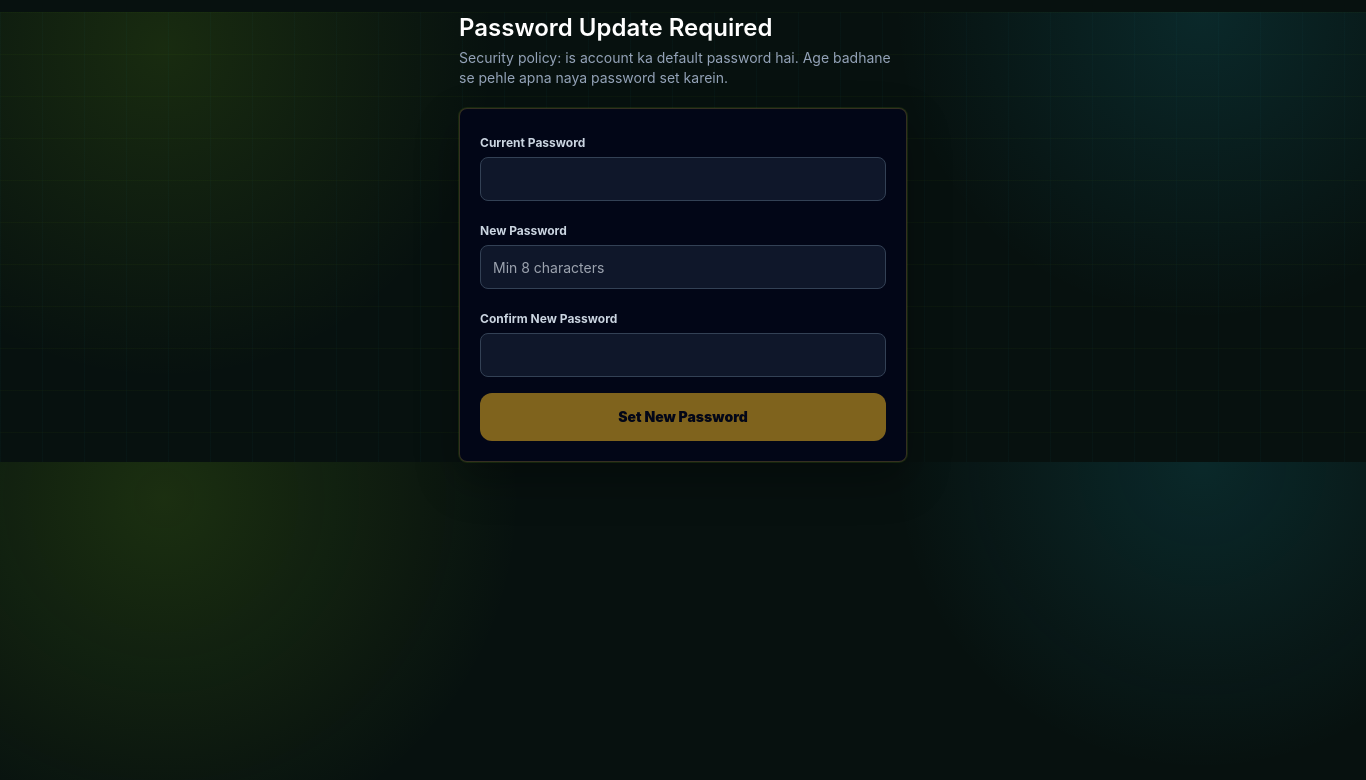
Test: ChangePasswordPage › submits when valid inputs and button is clicked
The width and height of the screenshot is (1366, 780).
Type "oldpass" into the password field labelled "Current Password" at (683, 179), box [480, 157, 886, 201]
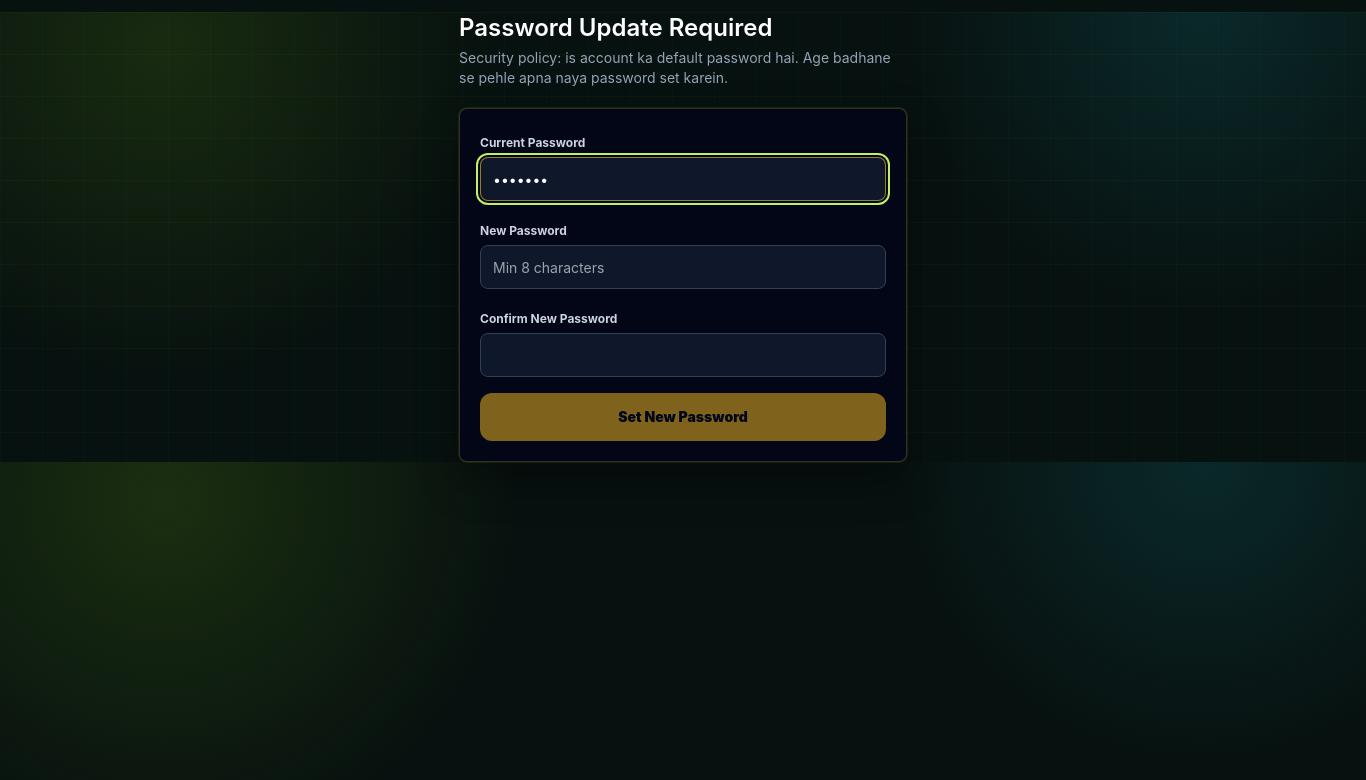
Type "newpass123" into the password field labelled "New Password" at (683, 267), box [480, 245, 886, 289]
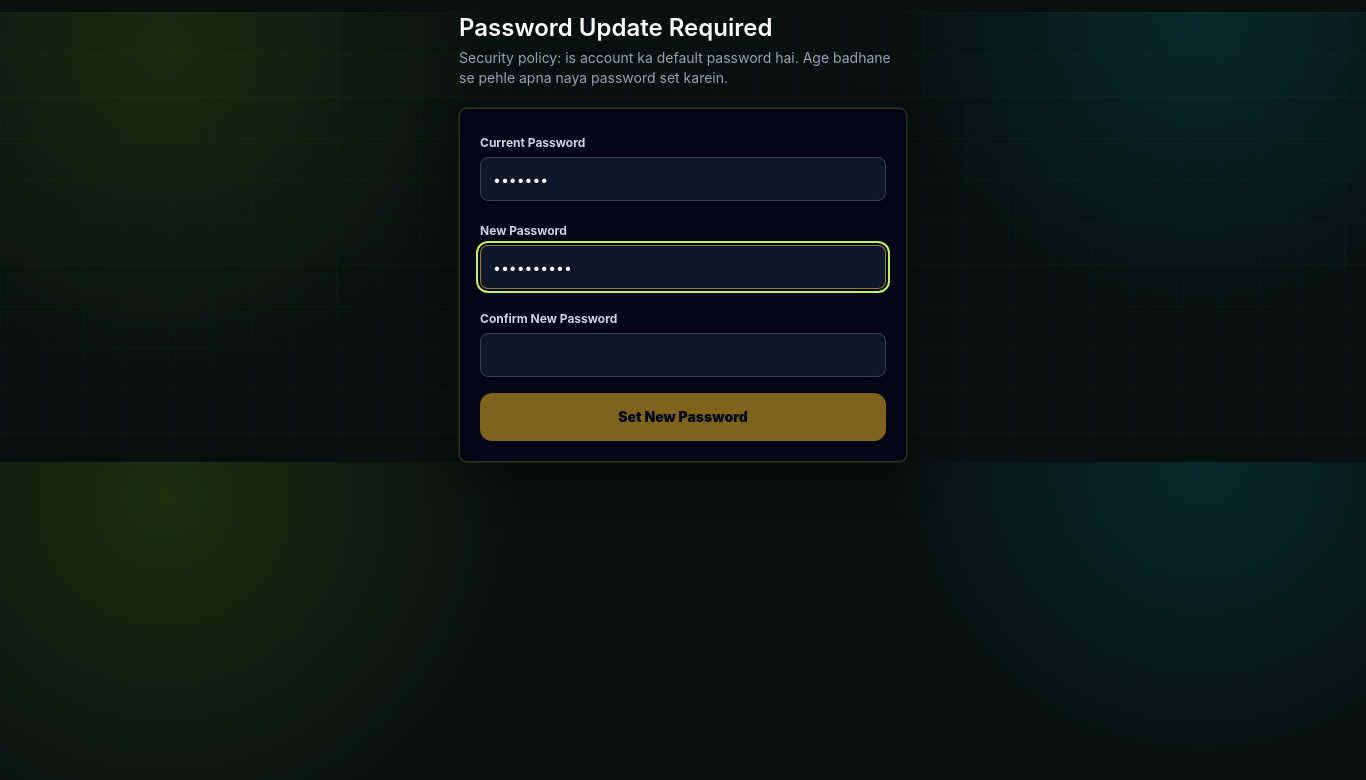
Type "newpass123" into the password field labelled "Confirm New Password" at (683, 355), box [480, 333, 886, 377]
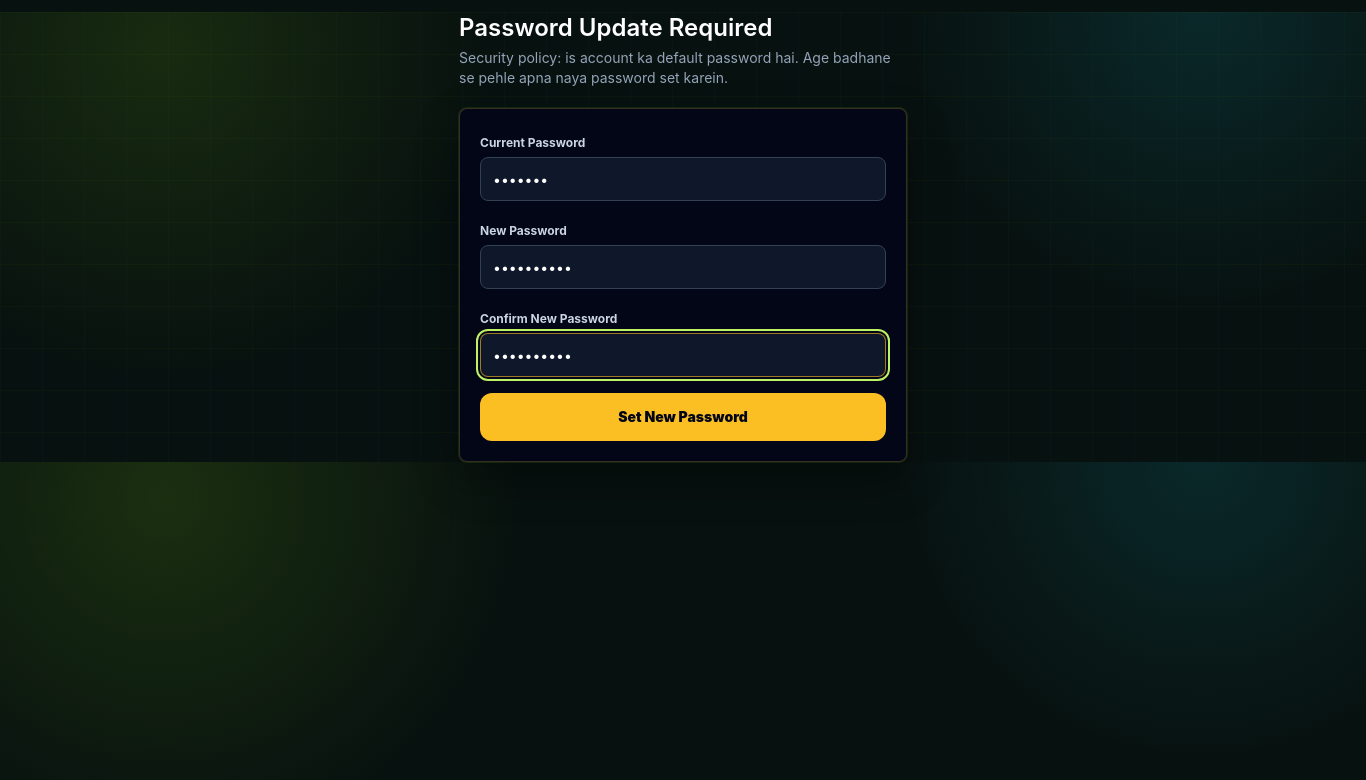
Click the button "Set New Password" at (683, 417), box [480, 393, 886, 441]
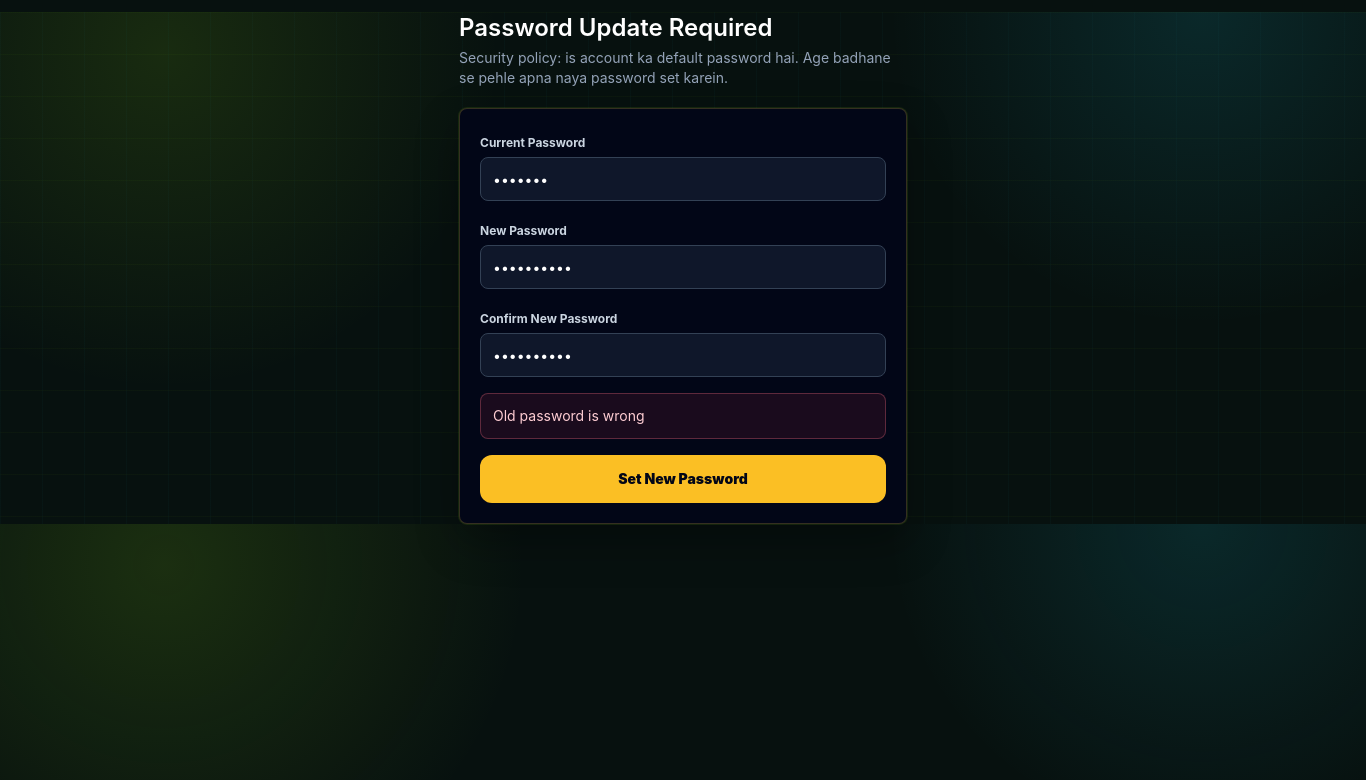
Check: the text "Old password is wrong" is shown, box [480, 393, 886, 439]
